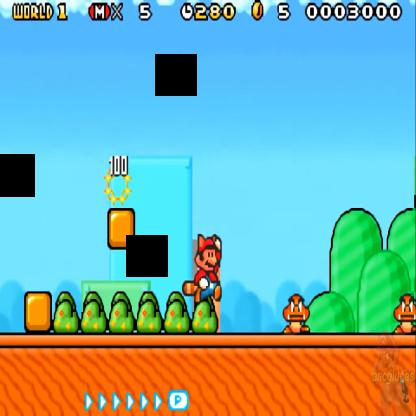Goomba: (282, 292, 311, 335), (391, 292, 416, 336)
Mario: (181, 233, 224, 307)
moneda: (249, 1, 265, 23)
